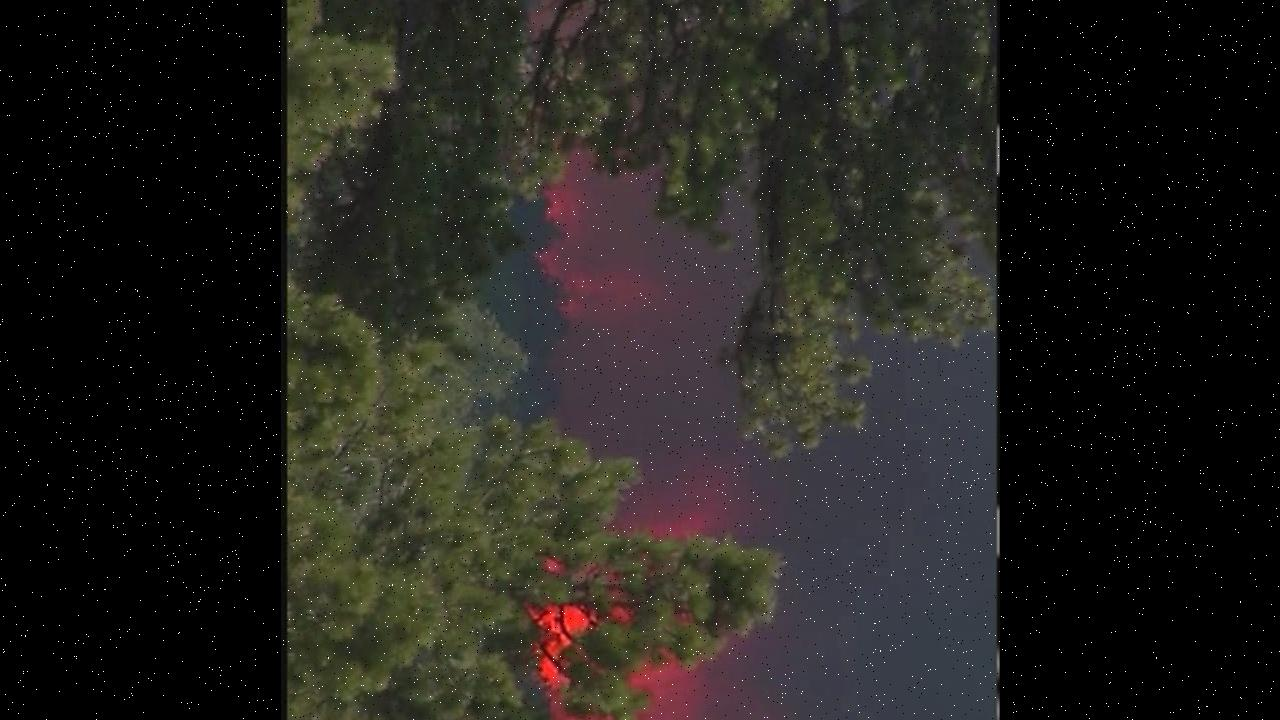fire: (513, 537, 666, 720)
